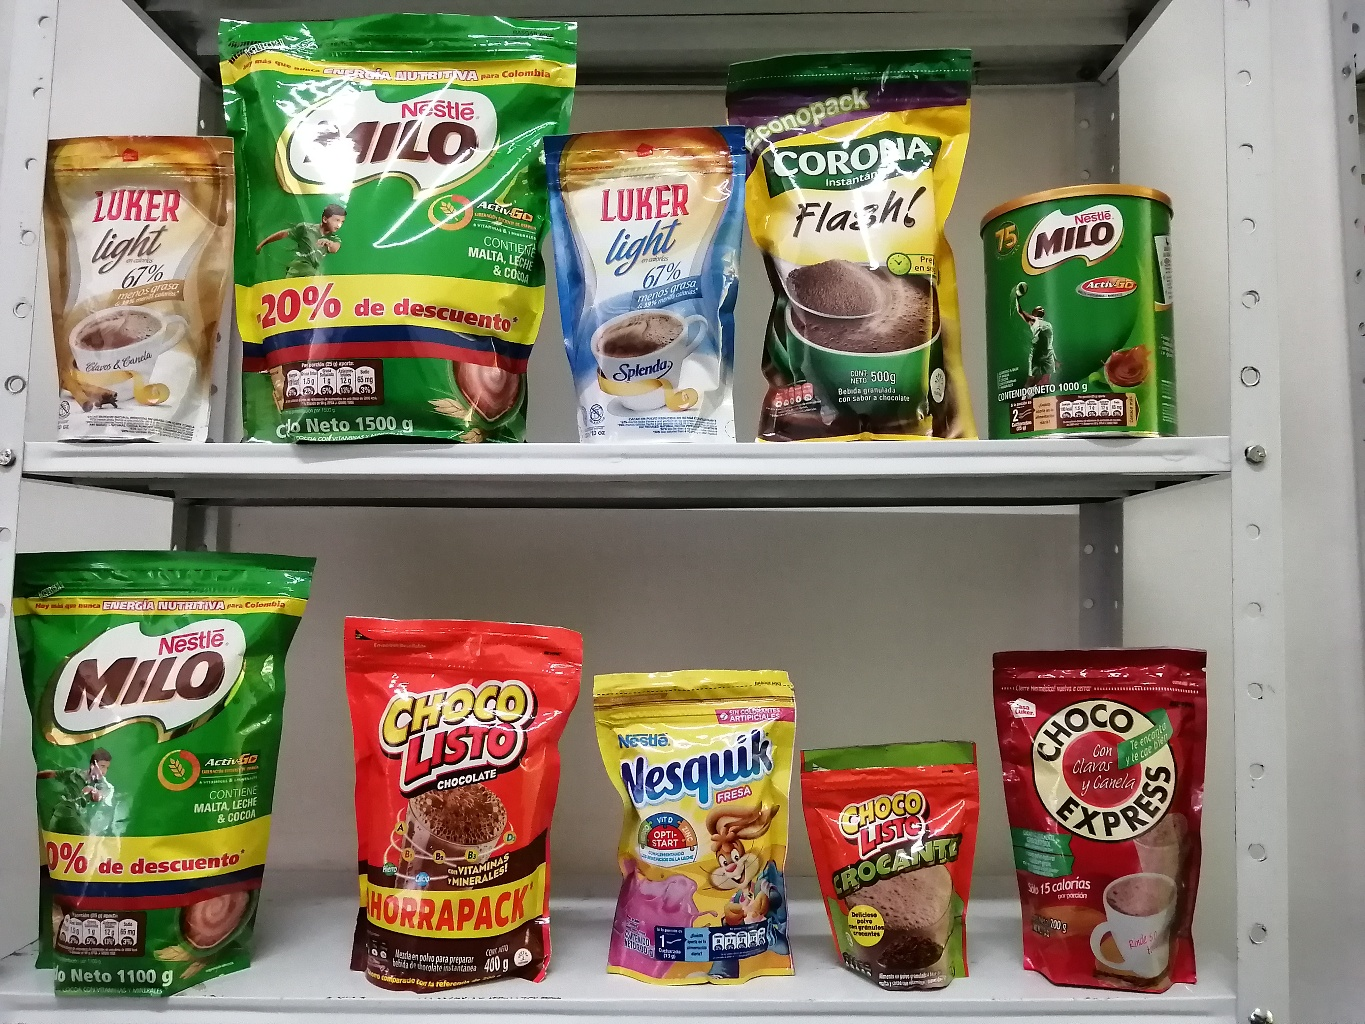COL0170102DYP10000: (790, 743, 980, 990)
COL0170103DYP40000: (344, 602, 589, 982)
COL0170305DYP20000: (597, 672, 811, 991)
